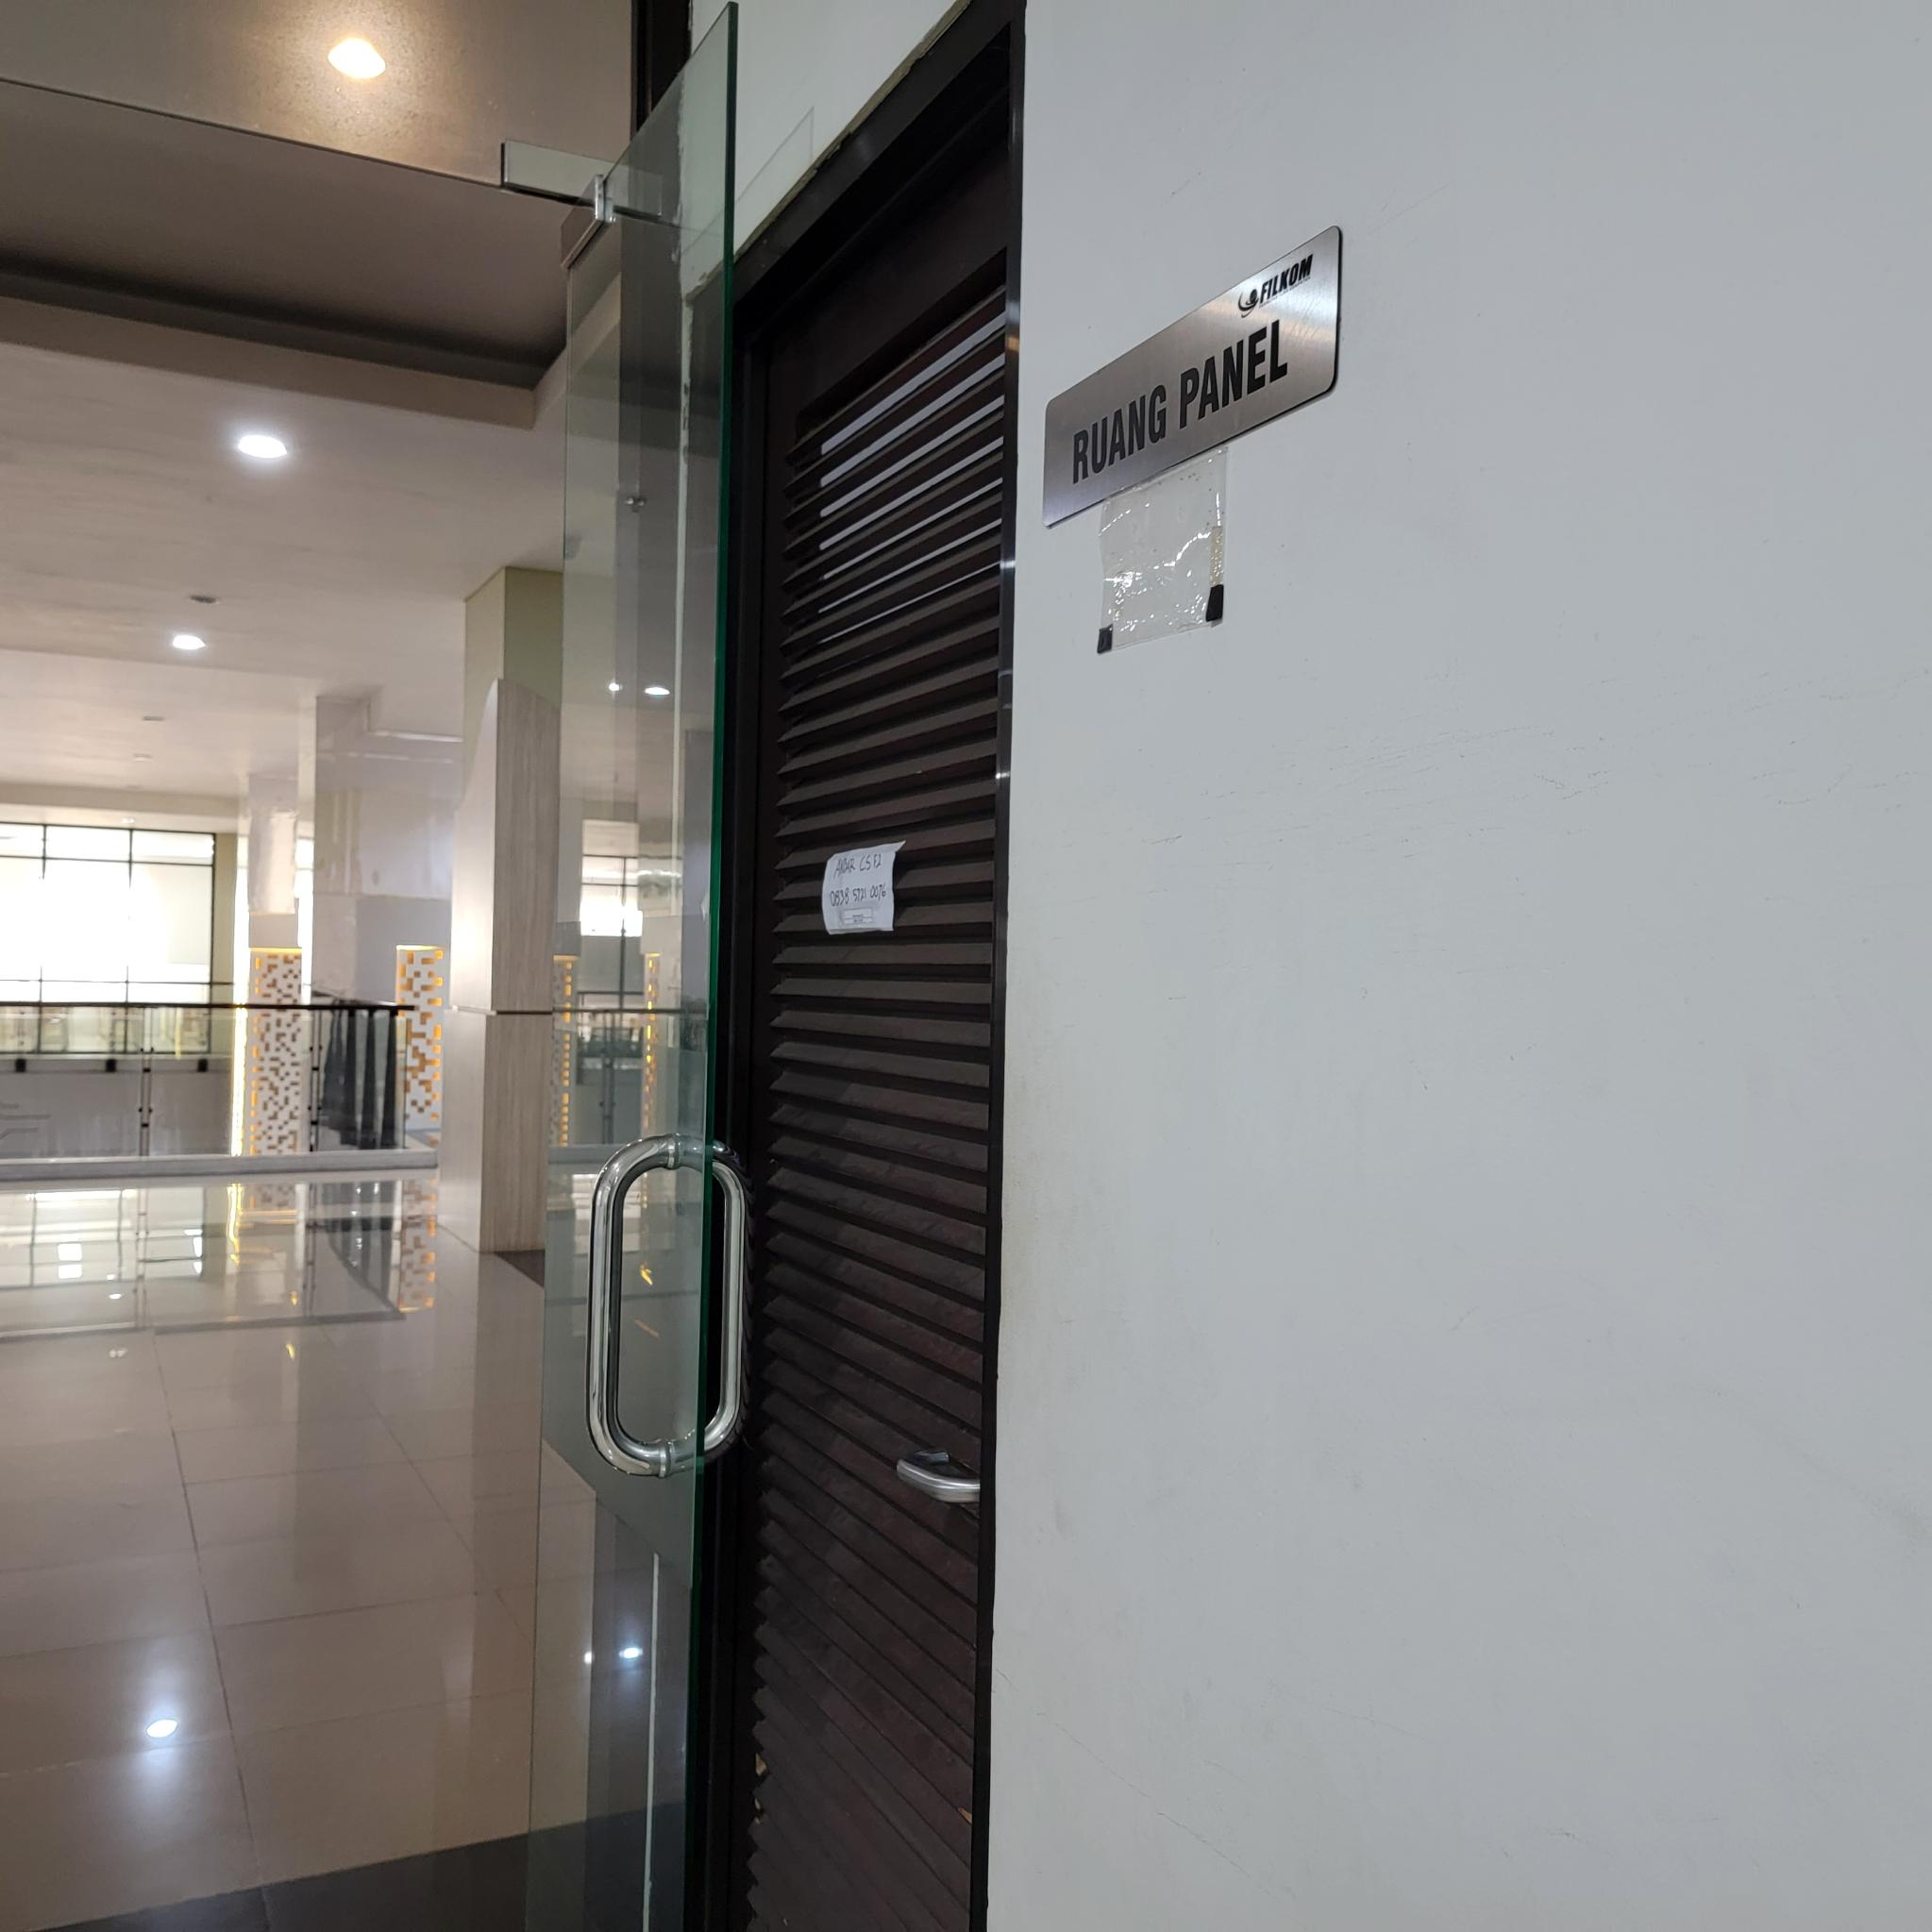plate: (1042, 221, 1341, 531)
